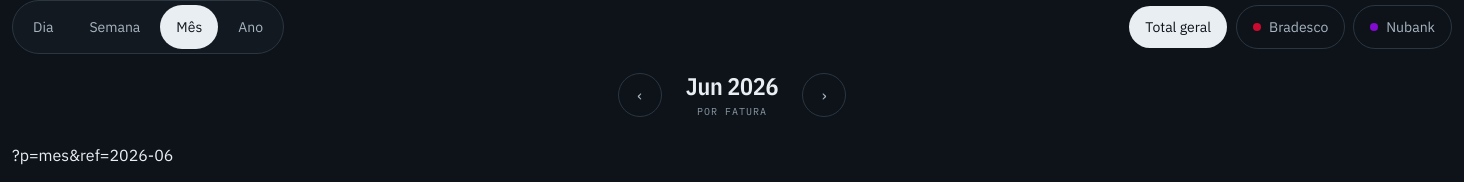
Test case: BarraFiltros › anda para o período anterior e para o próximo
Click the button named "Período anterior". click: (640, 94)
box: left=618, top=72, right=662, bottom=116
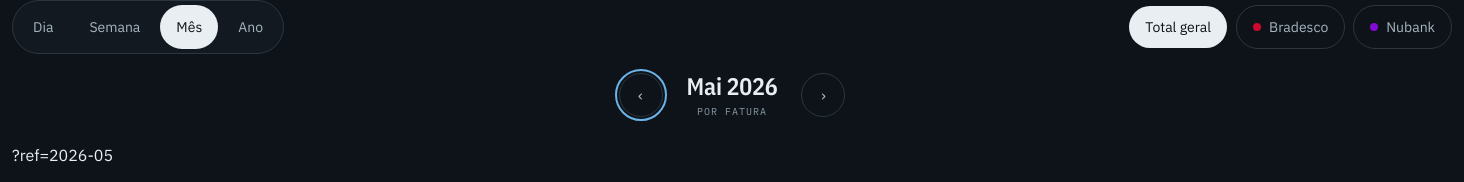
Expected: the text with test id "url" shows "ref=2026-05", left=12, top=145, right=113, bottom=165
Click the button named "Próximo período". click: (824, 94)
box: left=802, top=72, right=846, bottom=116
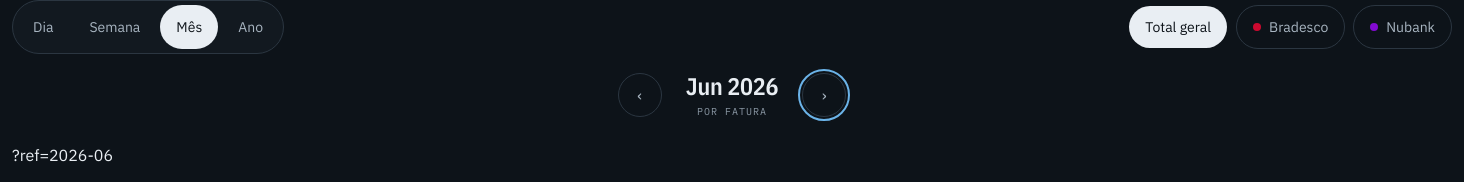
Expected: the text with test id "url" shows "ref=2026-06", left=12, top=145, right=113, bottom=165
